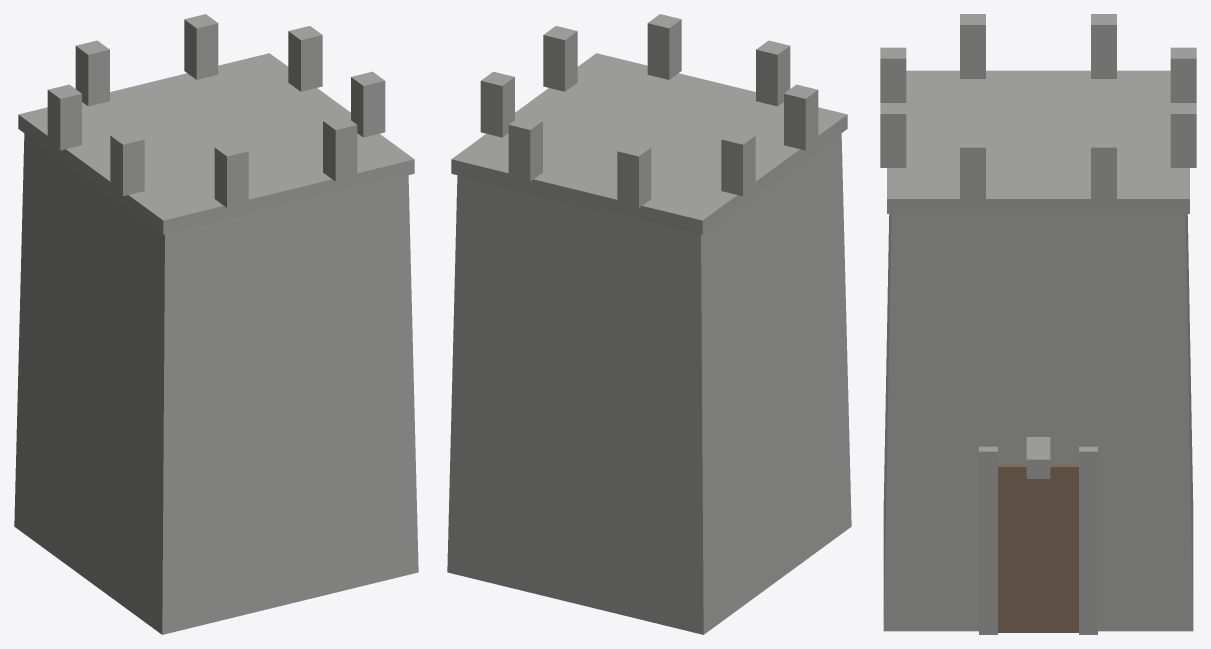
File: wall_tower.glb
The picture shows the model from 3 angles, left to right: view 1: azimuth 30°, elevation 25°; view 2: azimuth 150°, elevation 25°; view 3: azimuth 270°, elevation 25°; orthographic projection. The views are drawn at different scales.
Visible parts, largest first — view 1: wall_tower; view 2: wall_tower; view 3: wall_tower.
Part boxes in pixels (bbox=[...]): wall_tower: bbox=[14, 14, 418, 634]; wall_tower: bbox=[447, 14, 851, 634]; wall_tower: bbox=[880, 14, 1196, 634].
Bounding box in the file's own units: 3.05 × 4.5 × 2.66.
